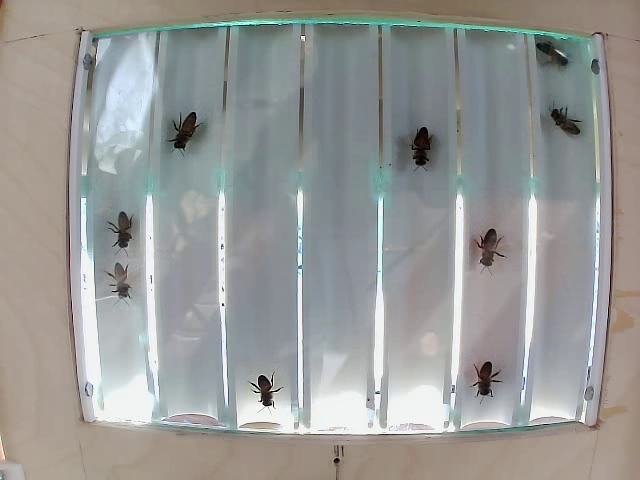bee: (256, 366, 293, 415), (534, 39, 568, 79), (99, 266, 139, 294), (469, 222, 497, 260), (551, 112, 576, 153), (174, 117, 201, 154), (99, 211, 127, 246), (474, 361, 501, 391), (405, 127, 425, 161)
